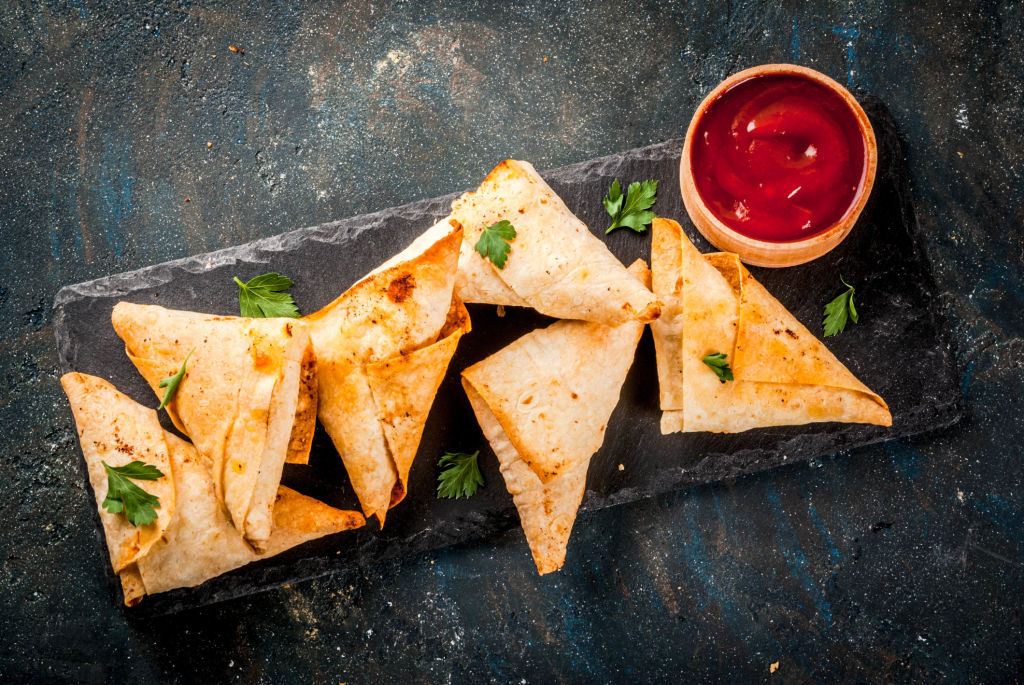samosa: (645, 227, 902, 433), (112, 295, 317, 552), (462, 327, 653, 593), (347, 225, 458, 532), (462, 155, 658, 320), (57, 367, 178, 625)
